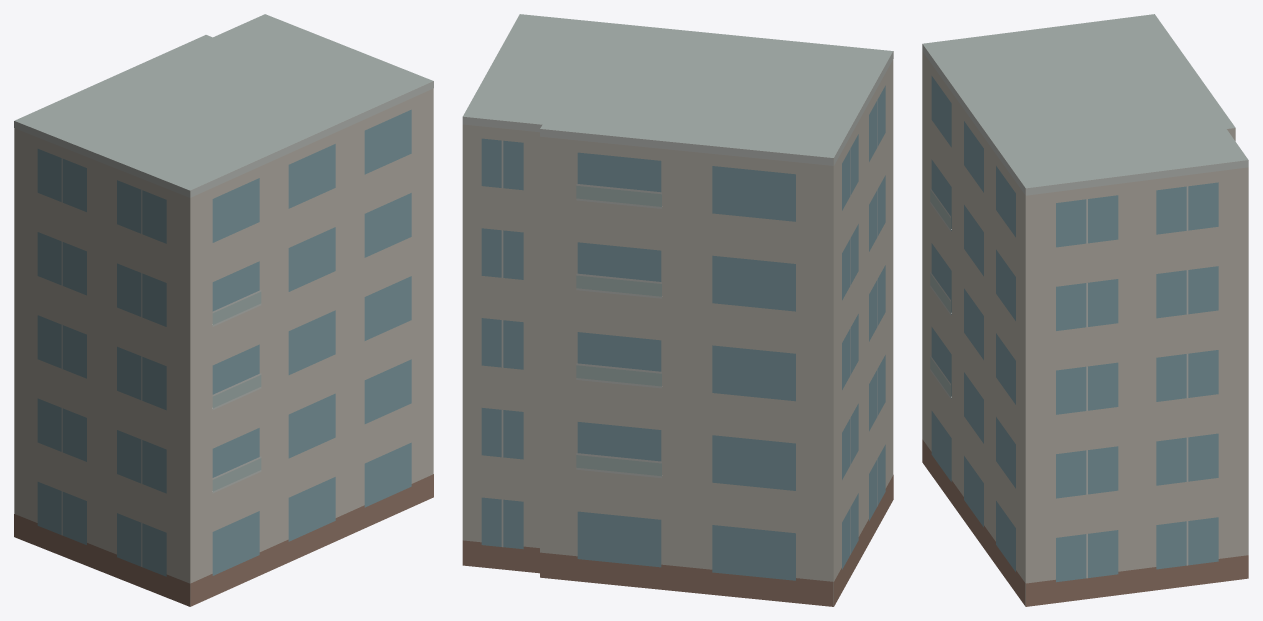
File: survey-upis-33022647.glb
3 renders of one model, left to right at view 1: azimuth 30°, elevation 25°; view 2: azimuth 150°, elevation 25°; view 3: azimuth 270°, elevation 25°, orthographic. The views are drawn at different scales.
Visible parts, largest first — view 1: survey-upis-33022647.tmp; view 2: survey-upis-33022647.tmp; view 3: survey-upis-33022647.tmp.
Boxes of the visible parts, bbox=[...] form: survey-upis-33022647.tmp: bbox=[14, 14, 433, 606]; survey-upis-33022647.tmp: bbox=[462, 14, 893, 606]; survey-upis-33022647.tmp: bbox=[922, 14, 1248, 606].
Bounding box in the file's own units: 12.49 × 13.96 × 9.88.
